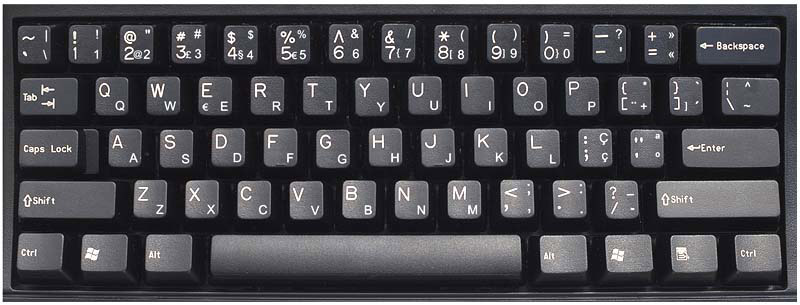keyboard: (7, 5, 800, 298)
